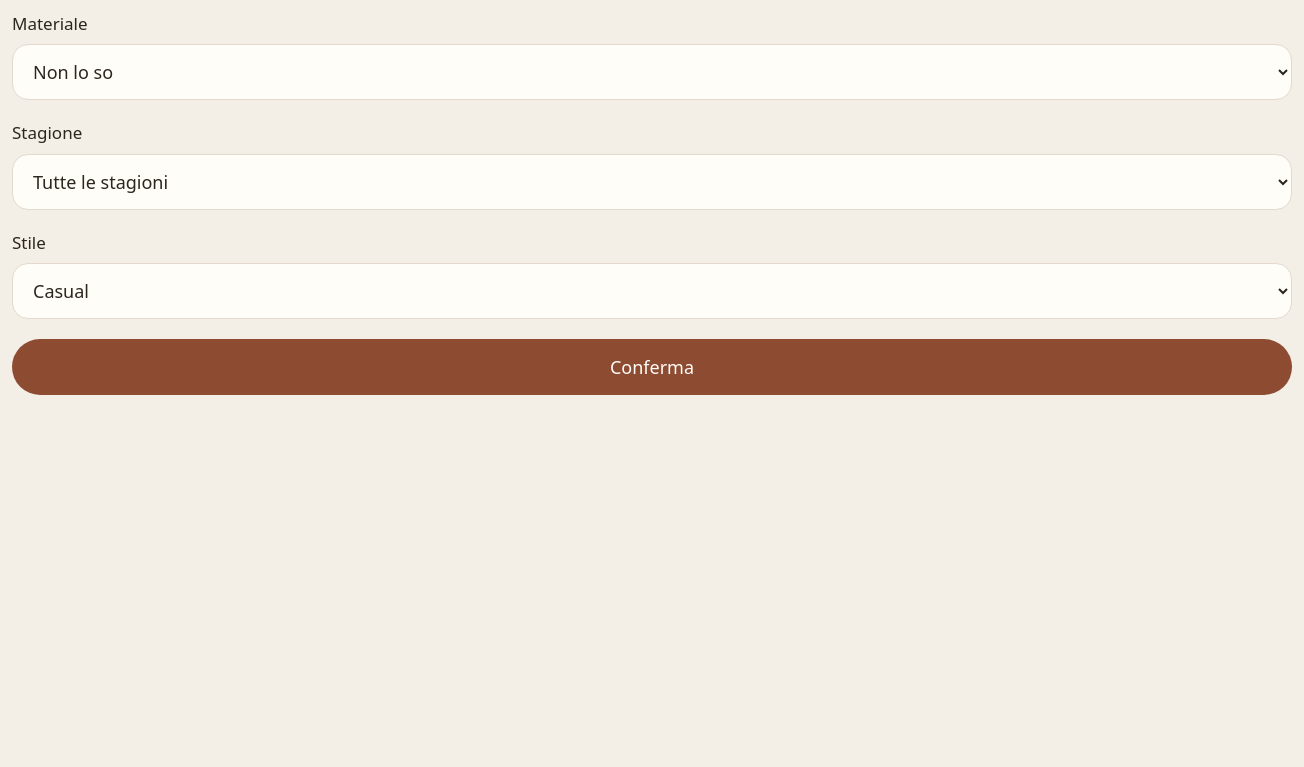
guardaroba › aggiunge più foto di seguito senza uscire dal modulo
Earlier steps of the test are not shown.
Later steps or results of the test are not shown.
(page scrolled)
What coordinates should you click on to do the following:
click the button "Conferma"
I would click on:
 (652, 367)
Its box is [12,339,1292,395].
(page scrolled)
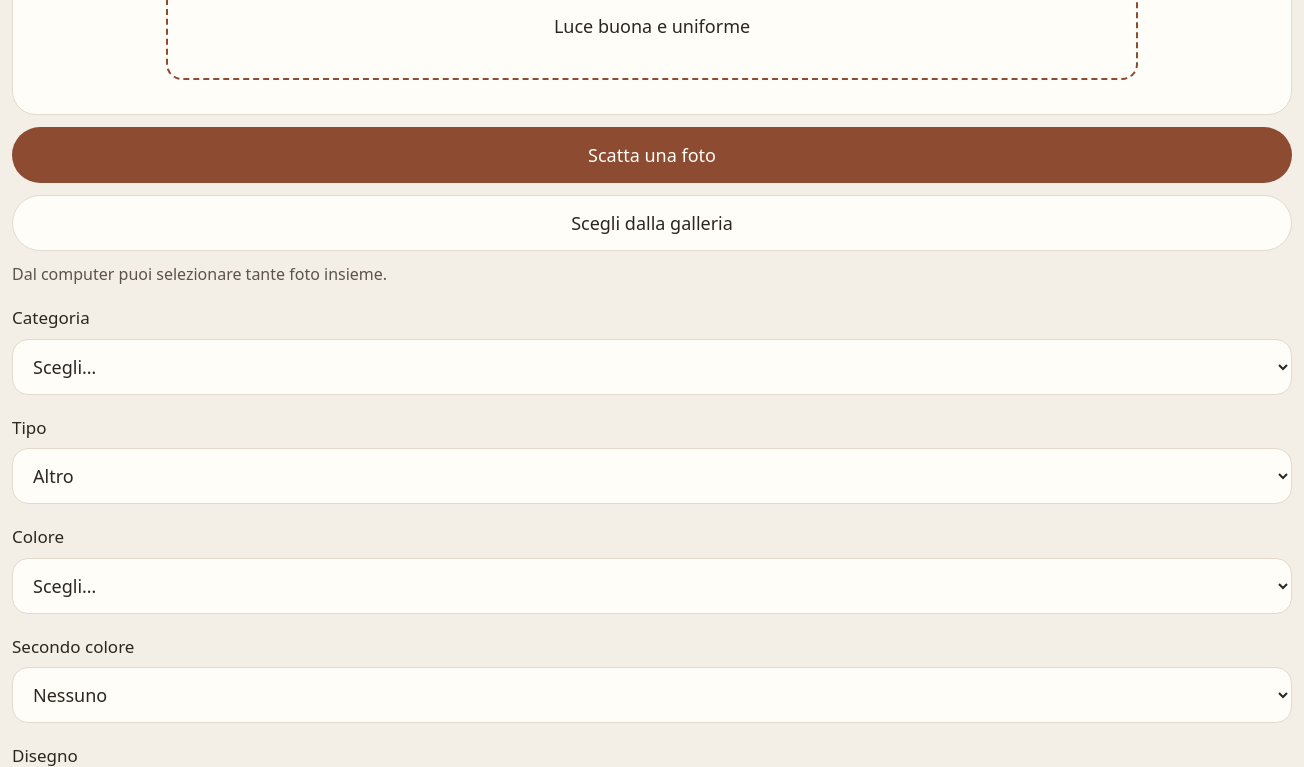
Expected: the dropdown labelled "Categoria" shows "Scegli…", [12,338,1292,394]
